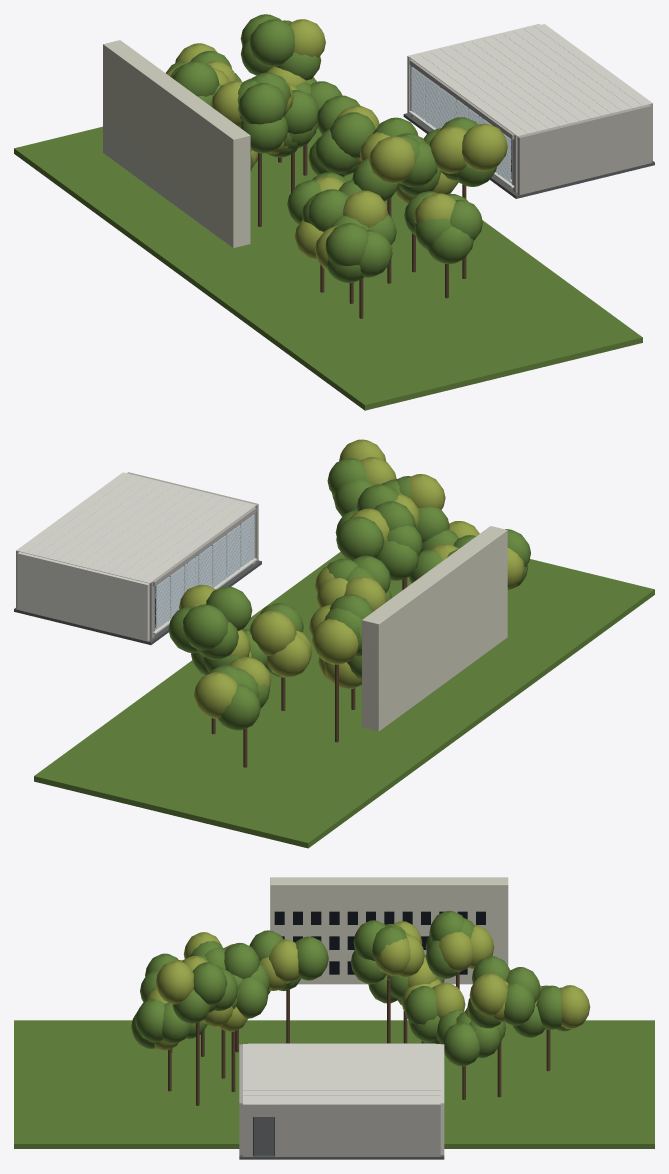
The model's file is lab.glb.
The picture shows the model from 3 angles, top to bottom: view 1: azimuth 30°, elevation 25°; view 2: azimuth 150°, elevation 25°; view 3: azimuth 270°, elevation 25°; orthographic projection. The views are drawn at different scales.
Parts seen in each view (by area): view 1: moxd Lab / optimized static environment; view 2: moxd Lab / optimized static environment; view 3: moxd Lab / optimized static environment.
Part boxes in pixels (<box>): moxd Lab / optimized static environment: <box>14,14,654,410</box>; moxd Lab / optimized static environment: <box>14,439,654,848</box>; moxd Lab / optimized static environment: <box>14,877,654,1159</box>.
Bounding box in the file's own units: 23.8 × 9.33 × 35.
